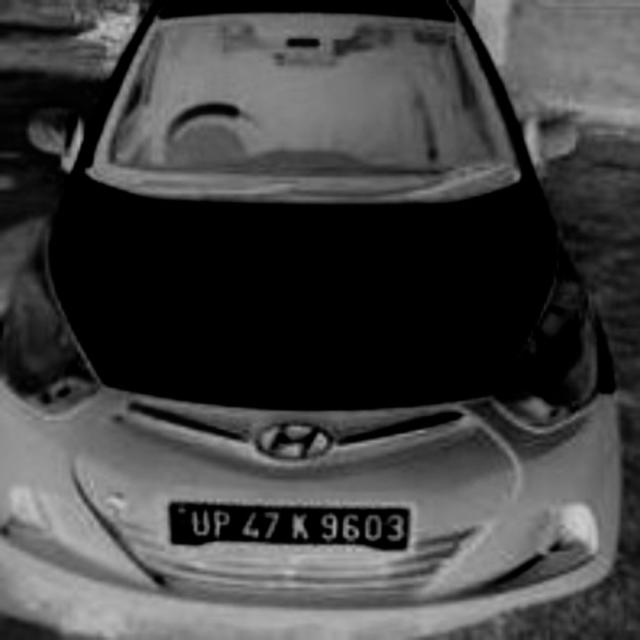0: (364, 514, 383, 544)
3: (384, 513, 405, 546)
4: (242, 508, 262, 545)
6: (340, 506, 362, 549)
7: (263, 508, 283, 543)
9: (320, 510, 341, 545)
IND: (172, 504, 190, 540)
Indian_registered: (170, 502, 418, 550)
K: (290, 509, 313, 543)
P: (213, 506, 233, 542)
U: (192, 506, 211, 540)
